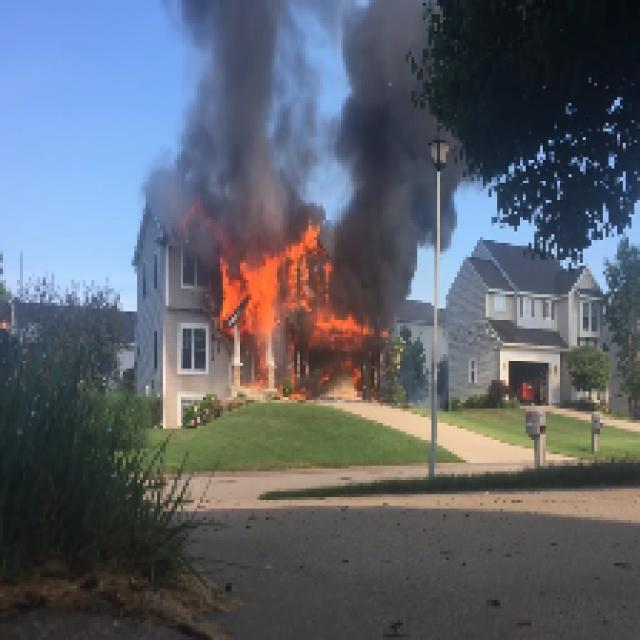fire: (222, 259, 285, 320)
smoke: (350, 11, 425, 308), (203, 12, 280, 237)
